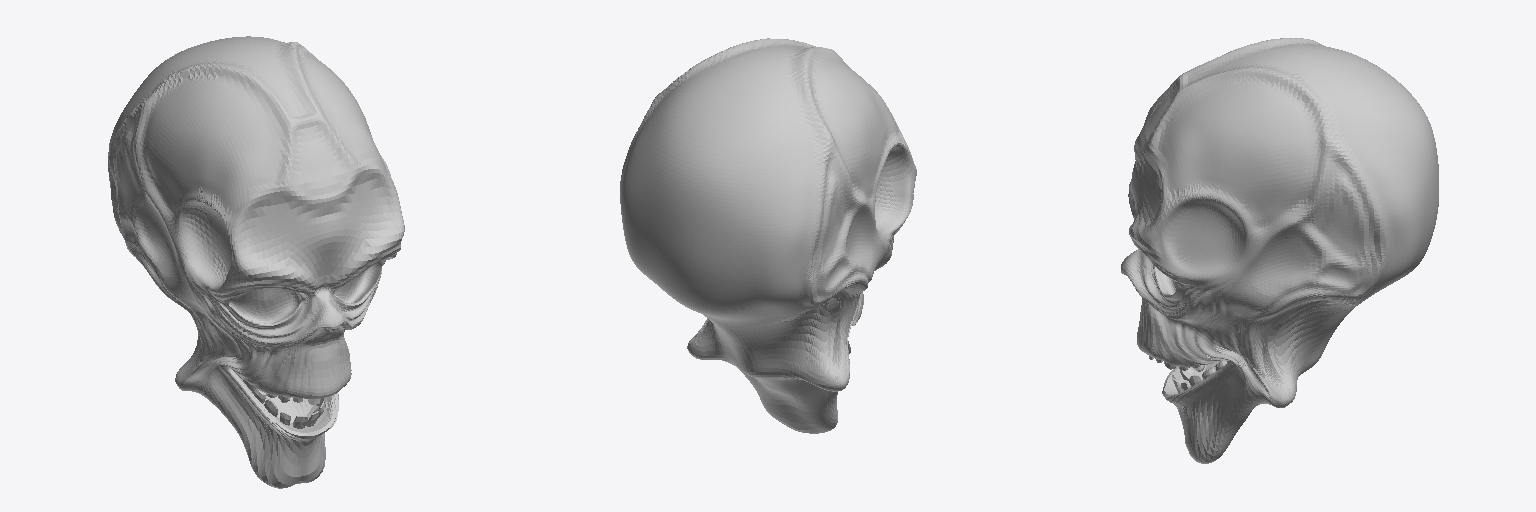
File: mskull.OBJ
The picture shows the model from 3 angles: view 1: azimuth 30°, elevation 25°; view 2: azimuth 150°, elevation 25°; view 3: azimuth 270°, elevation 25°; orthographic projection.
Parts seen in each view (by area): view 1: MSkull1Main; view 2: MSkull1Main; view 3: MSkull1Main.
Boxes of the visible parts, x1=… form: MSkull1Main: x1=108, y1=36, x2=404, y2=488; MSkull1Main: x1=620, y1=38, x2=916, y2=433; MSkull1Main: x1=1121, y1=38, x2=1438, y2=463.
Bounding box in the file's own units: 0.379 × 0.7128 × 0.5109.